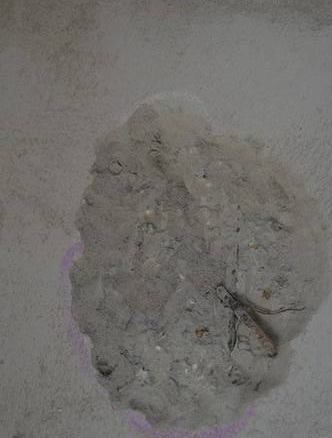Exposed reinforcement: (216, 284, 276, 357)
Spalling: (67, 90, 332, 438)
